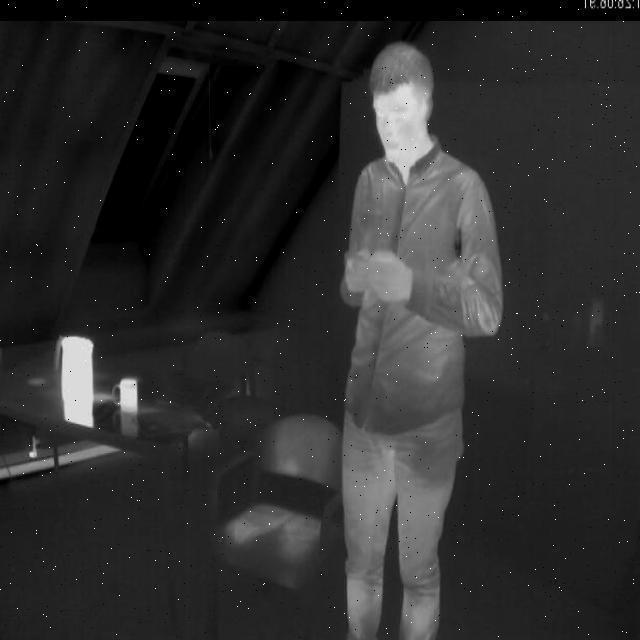person: (326, 30, 509, 640)
